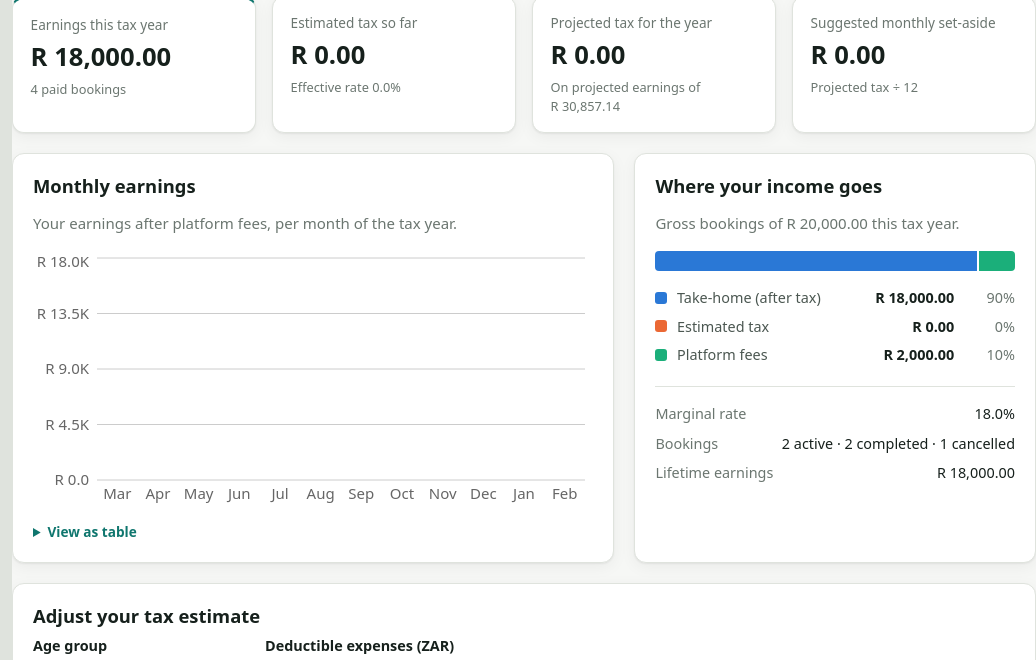
DashboardPage › offers the monthly chart as a table
The width and height of the screenshot is (1036, 660).
Click the heading "View as table" at (92, 531), box x1=47 y1=522 x2=137 y2=541
(page scrolled)
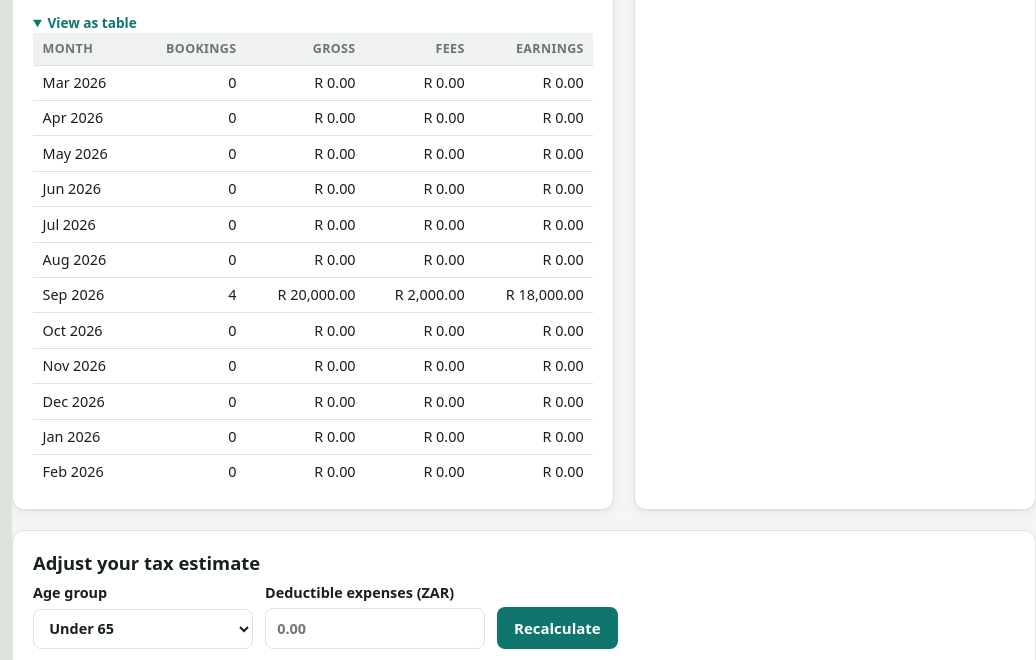
expect the cell "Sep 2026" is shown: met, box x1=33 y1=278 x2=136 y2=313
